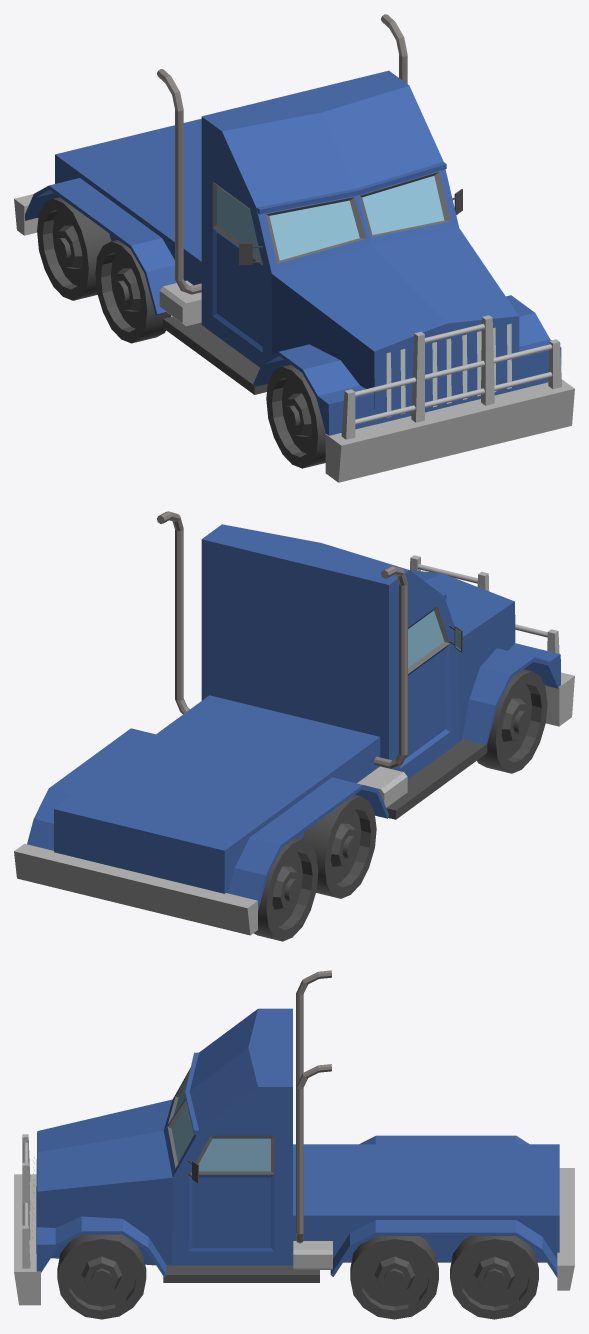
The model's file is SM_Truck_01.fbx.
The picture shows the model from 3 angles, top to bottom: view 1: azimuth 30°, elevation 25°; view 2: azimuth 150°, elevation 25°; view 3: azimuth 270°, elevation 25°; orthographic projection. The views are drawn at different scales.
Visible parts, largest first — view 1: SM_Truck_01; view 2: SM_Truck_01; view 3: SM_Truck_01.
Part boxes in pixels (bbox=[...]): SM_Truck_01: bbox=[14, 14, 574, 482]; SM_Truck_01: bbox=[14, 511, 574, 941]; SM_Truck_01: bbox=[14, 970, 574, 1319].
Bounding box in the file's own units: 280 × 339 × 678.
Materials: 2 (2 with a texture image).
